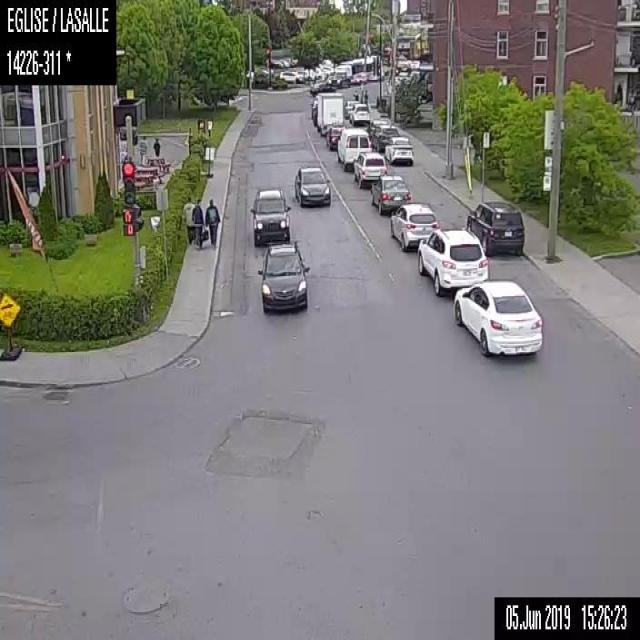pedestrian: (192, 198, 208, 249), (204, 196, 219, 248), (182, 196, 195, 247), (138, 134, 148, 162), (152, 138, 160, 158), (362, 86, 368, 102), (352, 88, 358, 102)
vehicle: (451, 276, 543, 356), (415, 228, 489, 293), (256, 241, 310, 313), (465, 198, 525, 259), (250, 185, 292, 244), (388, 201, 438, 250), (368, 172, 411, 213), (292, 165, 330, 207), (335, 127, 371, 170), (352, 149, 387, 186), (315, 91, 343, 135), (382, 134, 413, 167), (369, 123, 398, 152), (326, 121, 345, 149), (348, 102, 371, 125), (366, 118, 389, 141), (309, 78, 335, 97), (326, 71, 352, 89), (278, 67, 301, 84), (344, 100, 359, 118), (350, 71, 366, 83)
